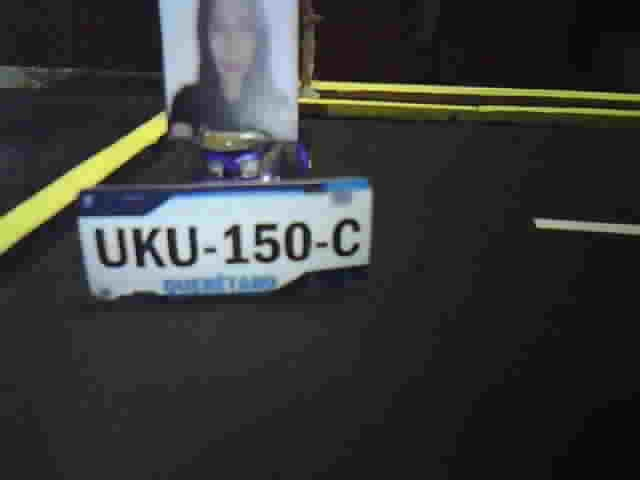PLACA: (73, 175, 378, 306)
ROSTRO: (165, 1, 298, 140)
